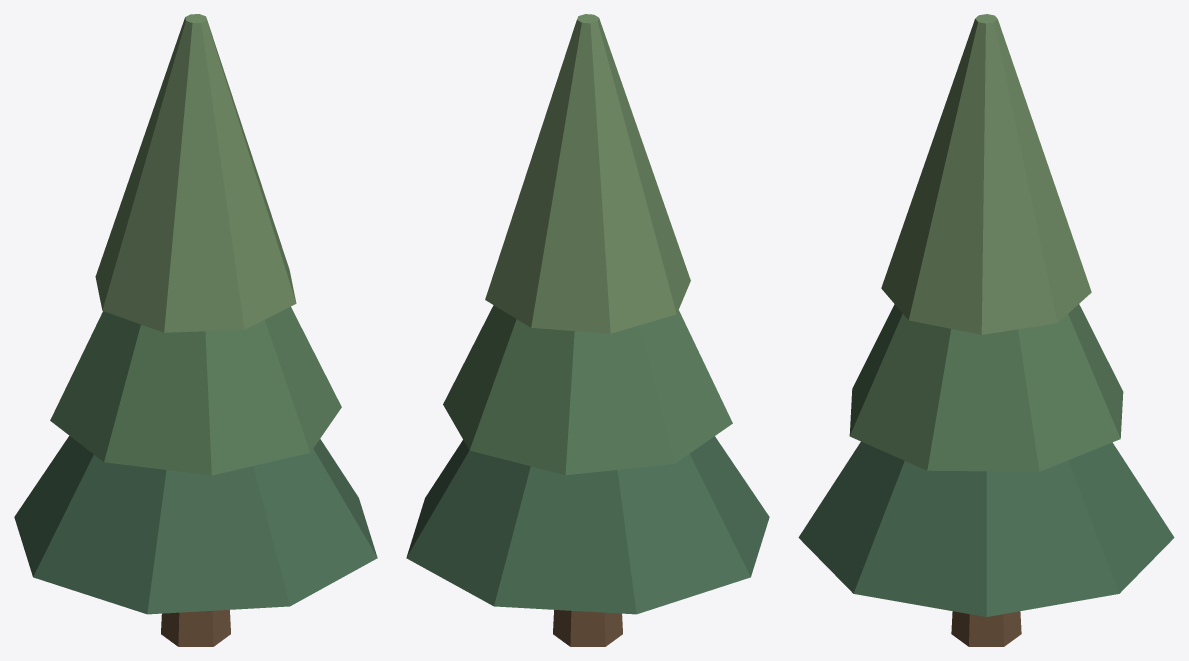
The model's file is tree-pine.glb.
3 views of the same model, side by side, from view 1: azimuth 30°, elevation 25°; view 2: azimuth 150°, elevation 25°; view 3: azimuth 270°, elevation 25° (orthographic).
Parts seen in each view (by area): view 1: tree-pine_mesh; view 2: tree-pine_mesh; view 3: tree-pine_mesh.
Part boxes in pixels (x1,y1,x2,y2): tree-pine_mesh: [14, 14, 377, 646]; tree-pine_mesh: [406, 14, 769, 646]; tree-pine_mesh: [798, 14, 1174, 646].
Size of the model in its own units: 1.82 by 3.29 by 1.82.
